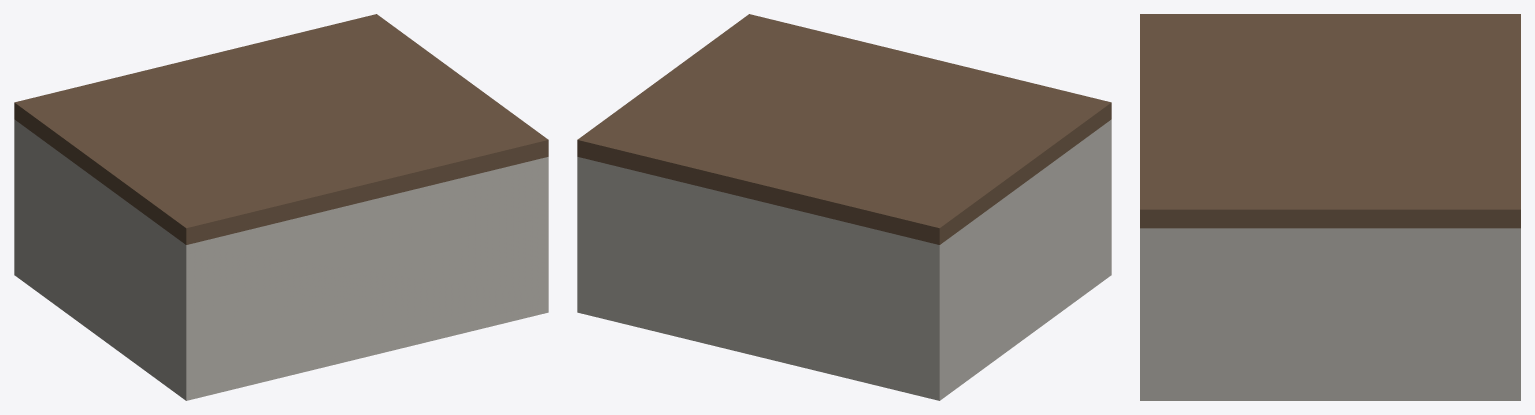
File: herreria.glb
3 renders of one model, left to right at view 1: azimuth 30°, elevation 25°; view 2: azimuth 150°, elevation 25°; view 3: azimuth 270°, elevation 25°, orthographic. The views are drawn at different scales.
Visible parts, largest first — view 1: Techo_interior, Pared_sur, Pared_oeste, Suelo, Pared_norte; view 2: Techo_interior, Pared_norte, Pared_oeste, Suelo, Pared_sur; view 3: Techo_interior, Pared_este, Suelo, Pared_norte, Pared_sur.
Boxes of the visible parts, left/top/right/bottom form: Techo_interior: left=14, top=14, right=548, bottom=244; Pared_sur: left=177, top=157, right=548, bottom=383; Pared_oeste: left=23, top=126, right=176, bottom=376; Suelo: left=14, top=258, right=548, bottom=400; Pared_norte: left=14, top=119, right=23, bottom=264; Techo_interior: left=577, top=14, right=1111, bottom=244; Pared_norte: left=577, top=157, right=948, bottom=383; Pared_oeste: left=949, top=126, right=1102, bottom=376; Suelo: left=577, top=258, right=1111, bottom=400; Pared_sur: left=1102, top=119, right=1111, bottom=264; Techo_interior: left=1140, top=14, right=1520, bottom=228; Pared_este: left=1160, top=228, right=1500, bottom=382; Suelo: left=1140, top=382, right=1520, bottom=400; Pared_norte: left=1500, top=228, right=1520, bottom=382; Pared_sur: left=1140, top=228, right=1160, bottom=382.
Bounding box in the file's own units: 10.1 × 4.6 × 8.3.
